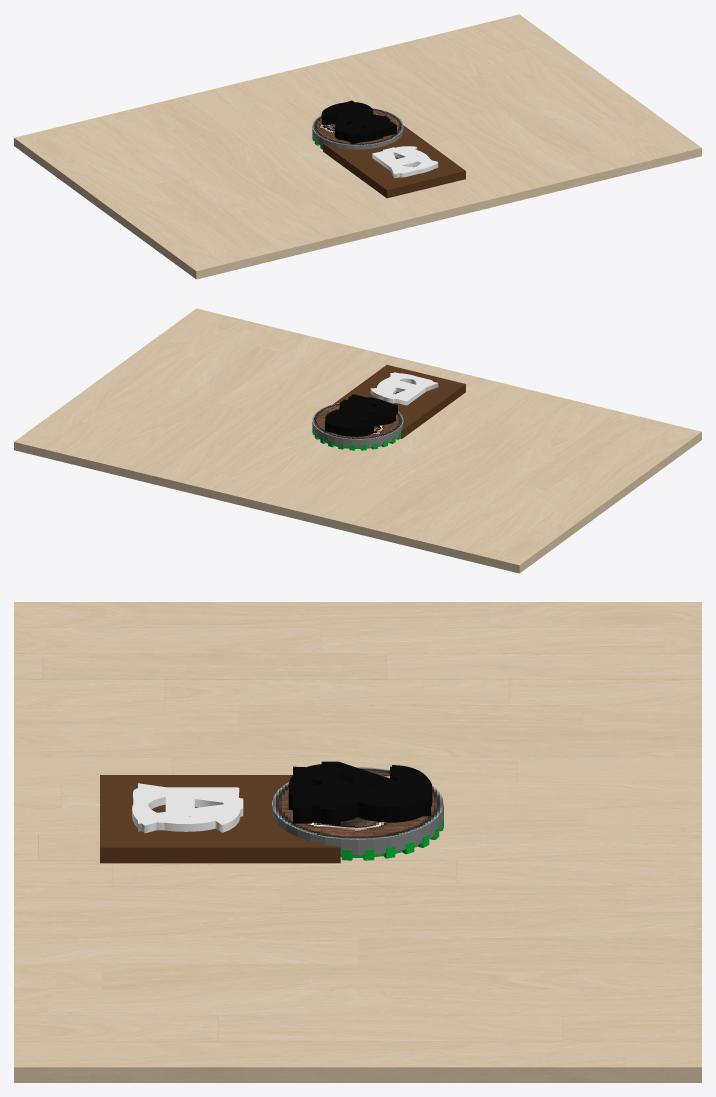
Rendered from cascadia-ready.glb.
The picture shows the model from 3 angles, top to bottom: view 1: azimuth 30°, elevation 25°; view 2: azimuth 150°, elevation 25°; view 3: azimuth 270°, elevation 25°; orthographic projection. The views are drawn at different scales.
Parts seen in each view (by area): view 1: card, D, bear, 2, A, 3, C; view 2: card, D, bear, 2, A, C, 4, 3; view 3: card, D, bear, 2, A, C, 3, 4, B, 1, score-80.
Part boxes in pixels (x1,y1,x2,y2): card: [14, 14, 701, 279]; D: [323, 125, 465, 197]; bear: [312, 108, 403, 149]; 2: [323, 102, 396, 144]; A: [347, 147, 465, 197]; 3: [321, 106, 388, 142]; C: [337, 146, 465, 197]; card: [14, 308, 701, 573]; D: [333, 365, 465, 430]; bear: [312, 402, 403, 447]; 2: [325, 394, 397, 436]; A: [383, 372, 464, 437]; C: [370, 373, 465, 438]; 4: [325, 399, 395, 433]; 3: [337, 397, 394, 436]; card: [14, 602, 701, 1082]; D: [100, 775, 340, 863]; bear: [272, 767, 443, 855]; 2: [293, 766, 432, 823]; A: [100, 783, 340, 863]; C: [100, 795, 340, 859]; 3: [289, 763, 427, 821]; 4: [315, 761, 430, 824]; B: [100, 788, 340, 862]; 1: [288, 776, 411, 809]; score-80: [340, 816, 443, 860].
Size of the model in its own units: 6.4 by 0.4 by 4.
Materials: 7 (7 with a texture image).
